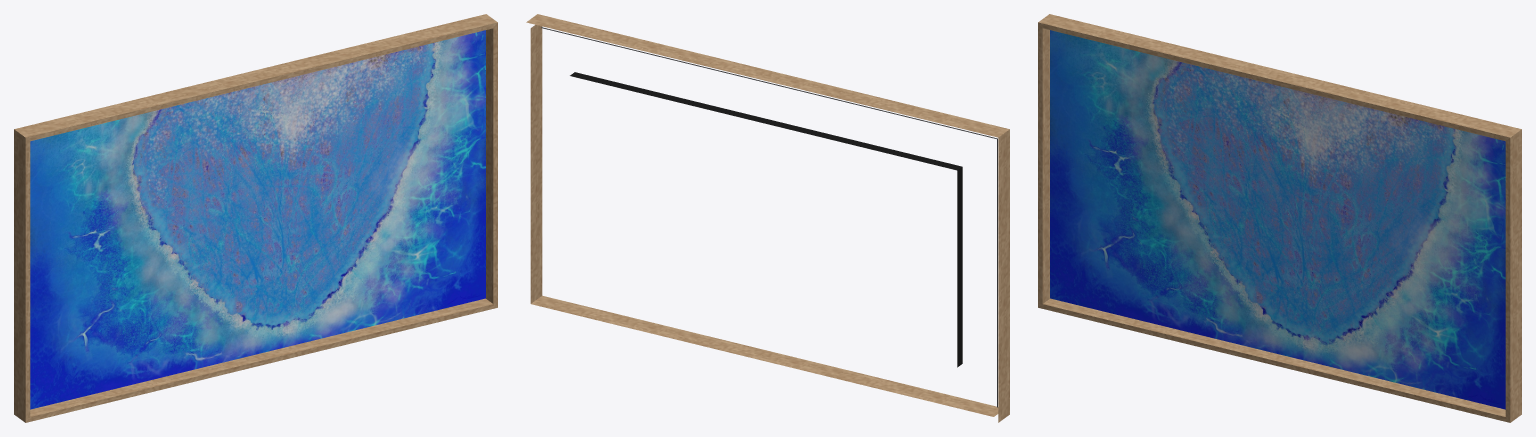
File: hz049_moyen_caisse-chene.glb
The picture shows the model from 3 angles, left to right: view 1: azimuth 30°, elevation 25°; view 2: azimuth 150°, elevation 25°; view 3: azimuth 330°, elevation 25°; orthographic projection.
Visible parts, largest first — view 1: hz049_moyen_caisse-chene; view 2: hz049_moyen_caisse-chene; view 3: hz049_moyen_caisse-chene.
Boxes of the visible parts, bbox=[...] form: hz049_moyen_caisse-chene: bbox=[14, 14, 497, 422]; hz049_moyen_caisse-chene: bbox=[526, 14, 1009, 422]; hz049_moyen_caisse-chene: bbox=[1038, 14, 1521, 422].
Size of the model in its own units: 0.828 by 0.478 by 0.035.
4 materials, 2 textured.
